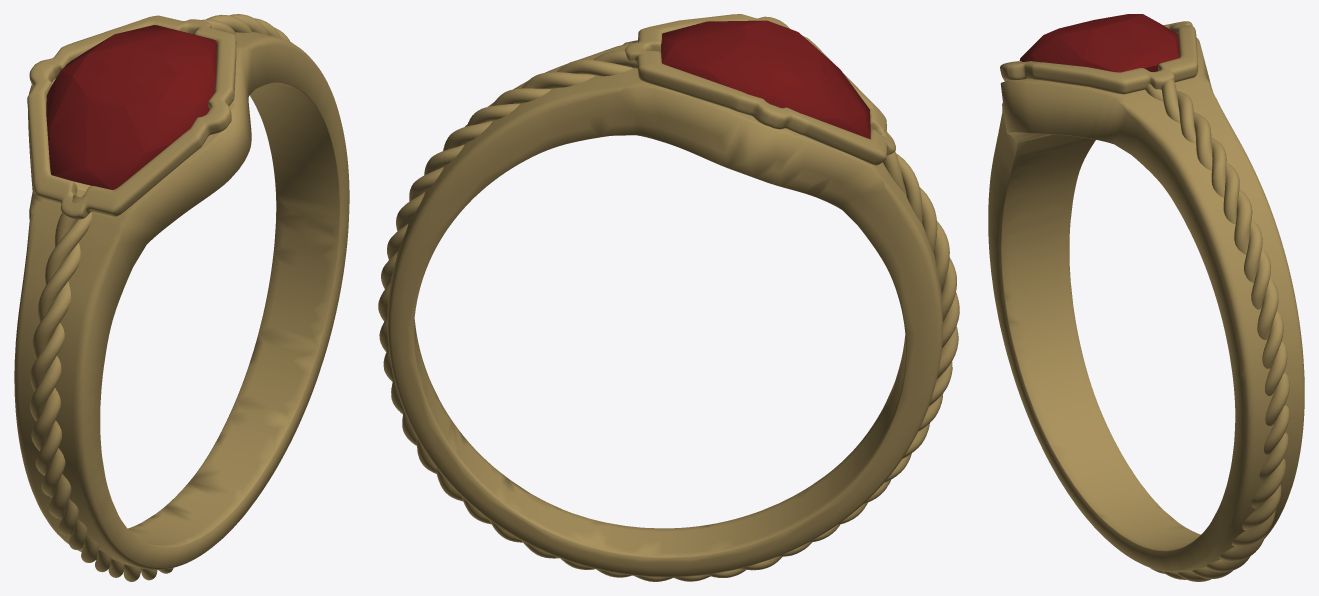
The model's file is narya_gandalfs_ring-optimo.glb.
3 views of the same model, side by side, from view 1: azimuth 30°, elevation 25°; view 2: azimuth 150°, elevation 25°; view 3: azimuth 270°, elevation 25° (orthographic). The views are drawn at different scales.
Visible parts, largest first — view 1: Plane.001_0, Gem.001_0; view 2: Plane.001_0, Gem.001_0; view 3: Plane.001_0, Gem.001_0.
Boxes of the visible parts, x1,y1,x2,y2 form: Plane.001_0: (14, 14, 349, 581); Gem.001_0: (46, 25, 216, 189); Plane.001_0: (378, 14, 959, 581); Gem.001_0: (661, 20, 870, 139); Plane.001_0: (988, 21, 1304, 581); Gem.001_0: (1019, 14, 1179, 72).
Bounding box in the file's own units: 0.1193 × 0.1399 × 0.0786.
